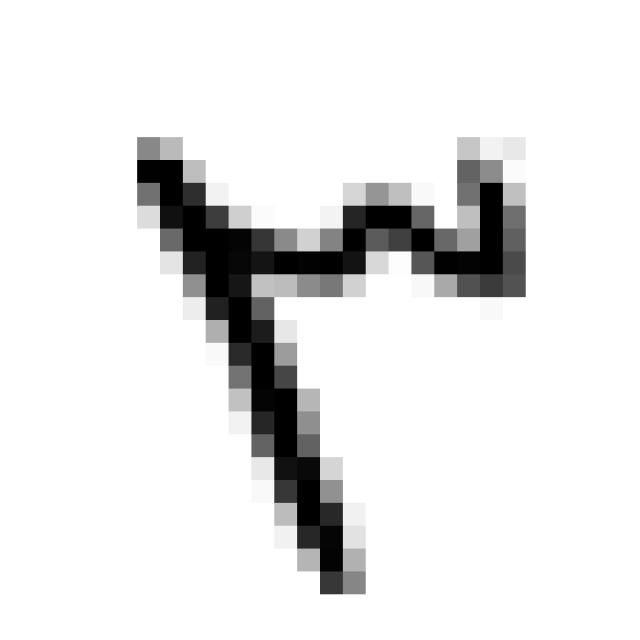3 -three-: (107, 105, 548, 614)
